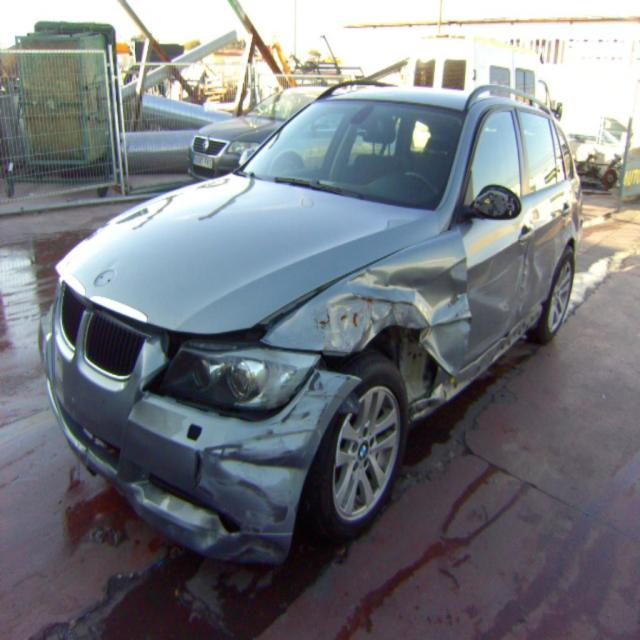Damage: (196, 247, 534, 559)
